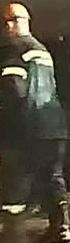helmet: (1, 3, 31, 22)
vest: (0, 38, 68, 142)
